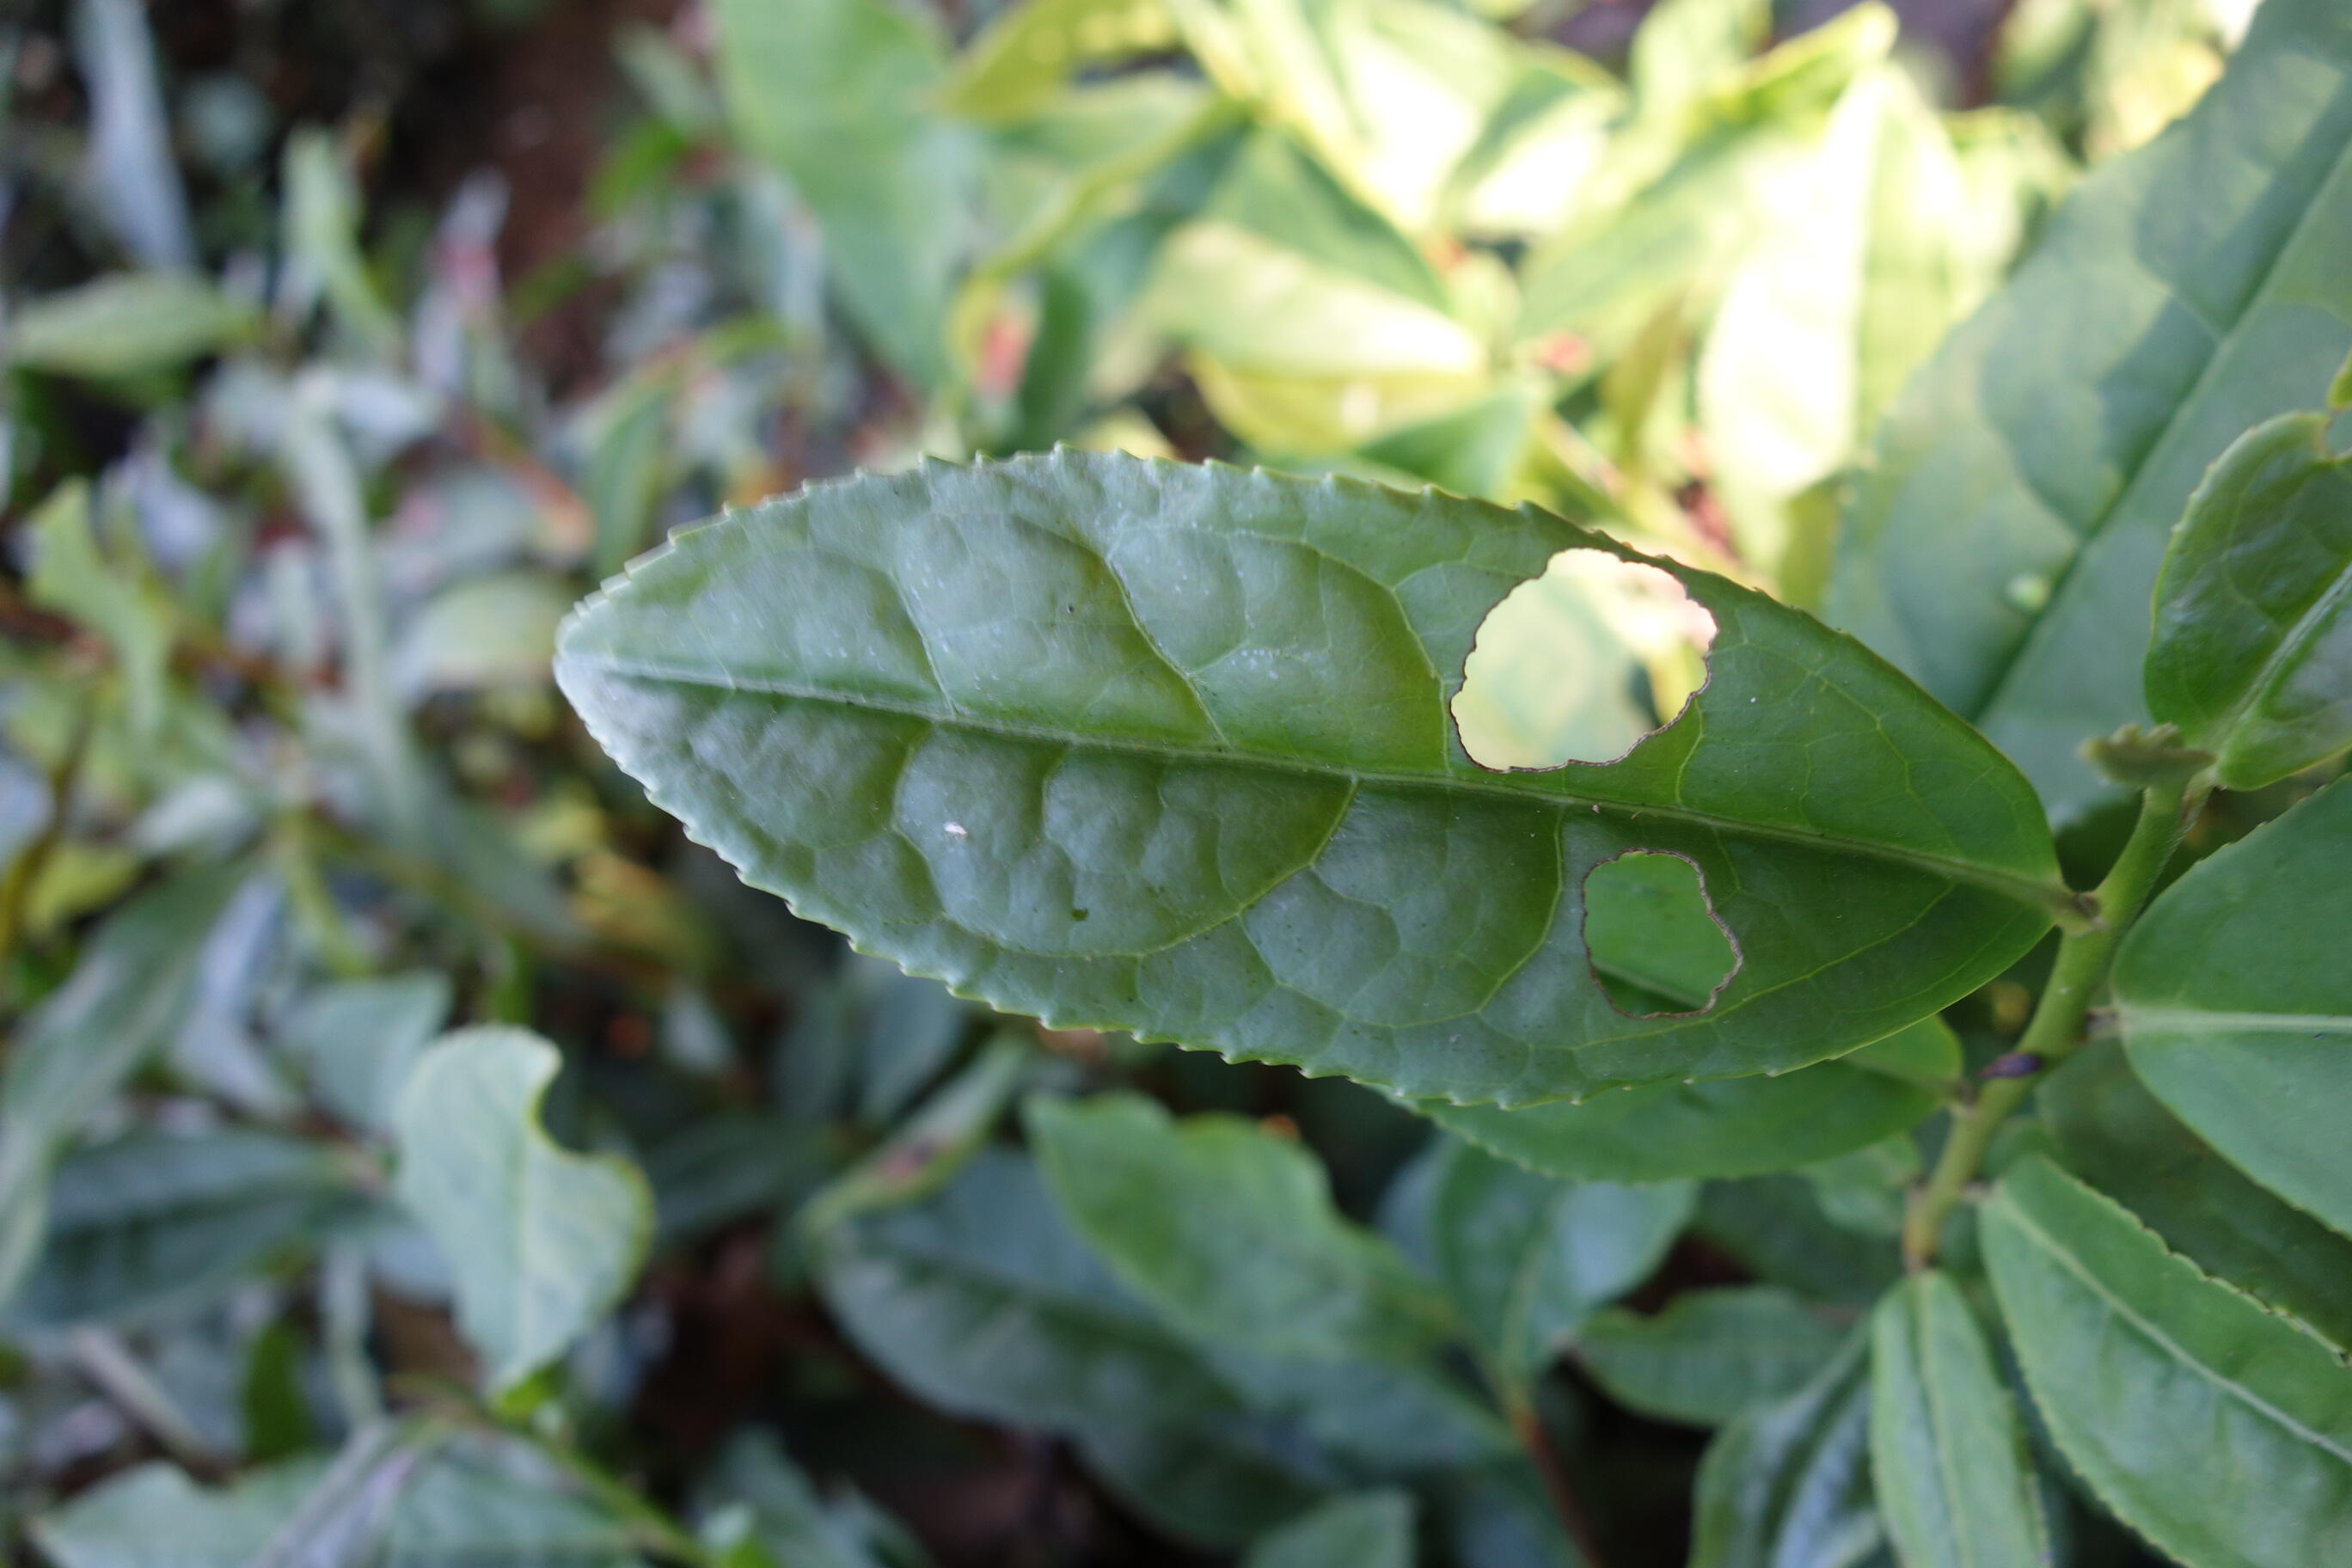chihuo_high: (553, 434, 2074, 1111)
